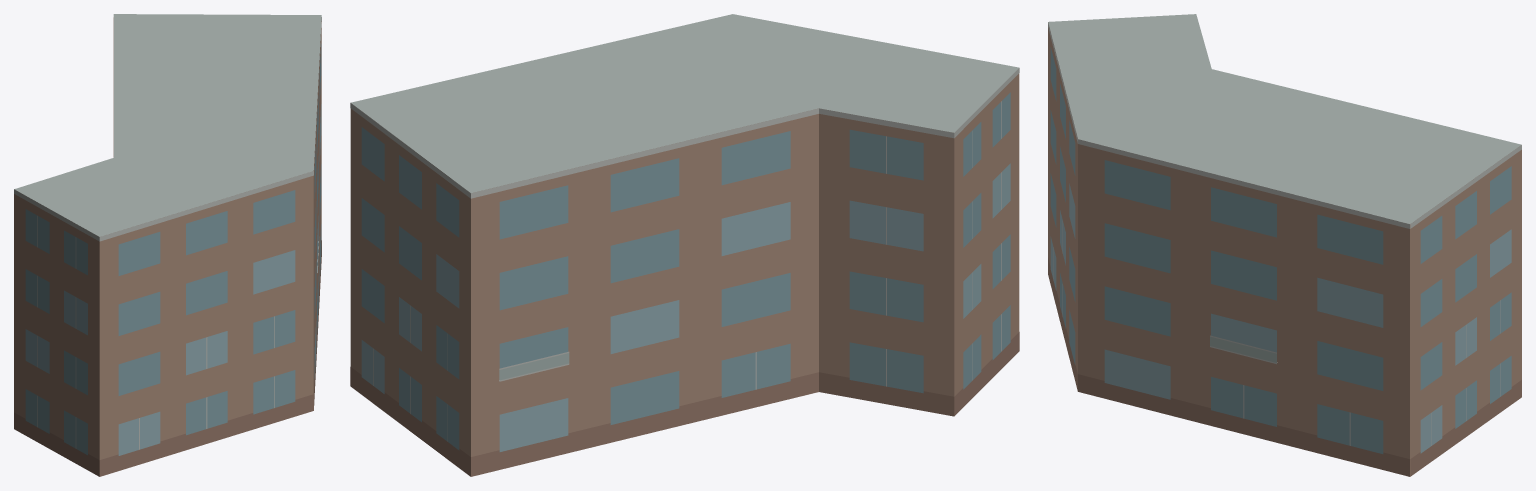
Rendered from survey-upis-32679336.glb.
The picture shows the model from 3 angles, left to right: view 1: azimuth 30°, elevation 25°; view 2: azimuth 150°, elevation 25°; view 3: azimuth 270°, elevation 25°; orthographic projection. The views are drawn at different scales.
Parts seen in each view (by area): view 1: survey-upis-32679336.tmp; view 2: survey-upis-32679336.tmp; view 3: survey-upis-32679336.tmp.
Part boxes in pixels (x1,y1,x2,y2): survey-upis-32679336.tmp: (14, 14, 321, 476); survey-upis-32679336.tmp: (350, 14, 1019, 476); survey-upis-32679336.tmp: (1048, 14, 1521, 476).
Size of the model in its own units: 22.68 by 12.7 by 21.59.
